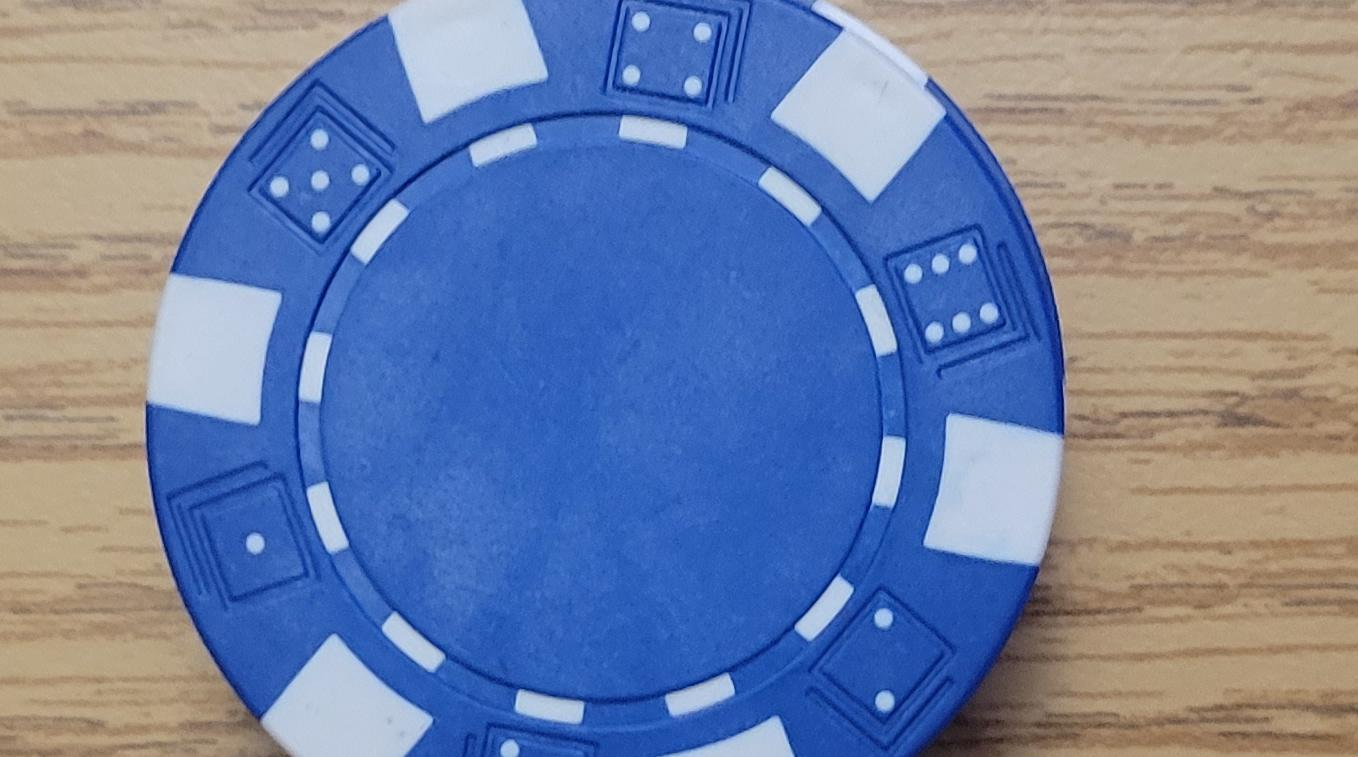Chip: (1, 361, 688, 757)
